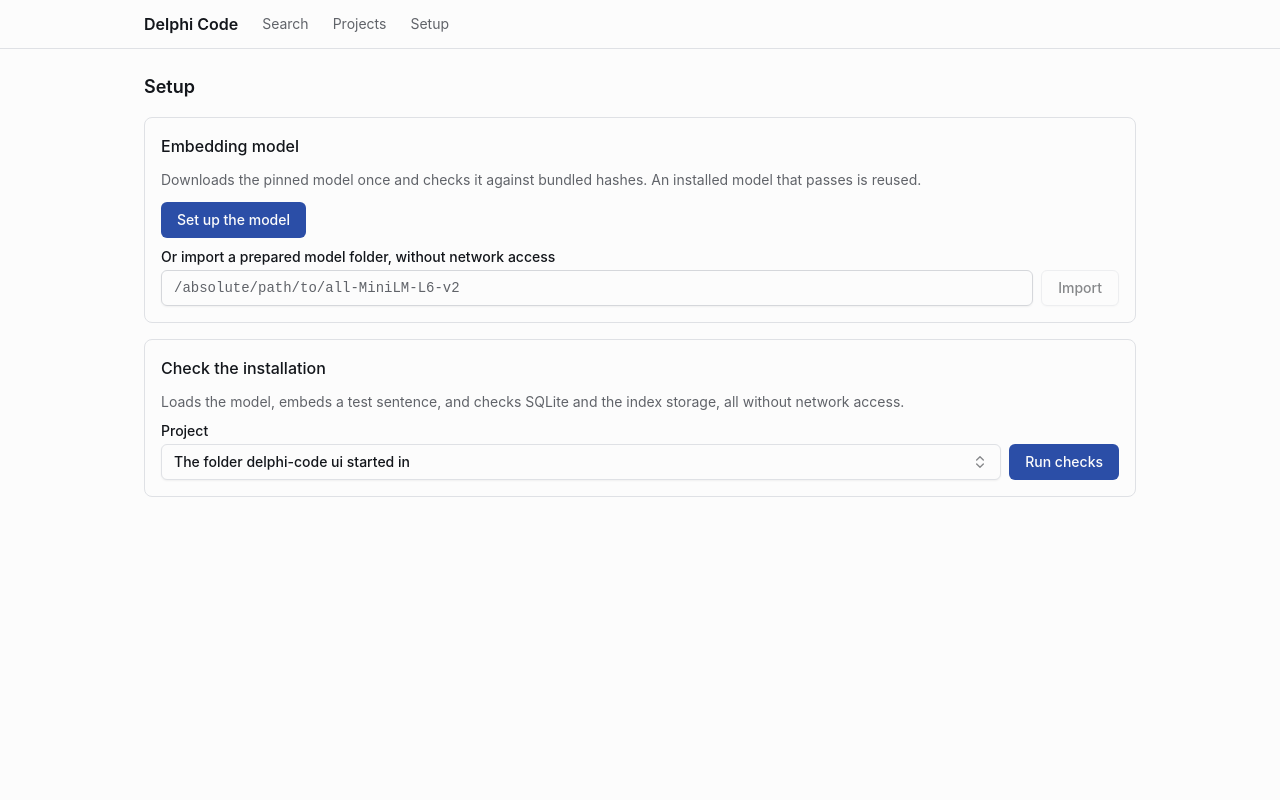
Test: the setup page › runs the installation checks in the folder the server started in unless a project is picked
The image size is (1280, 800).
Click the button "Run checks". click: (1064, 462)
box: left=1009, top=444, right=1119, bottom=480
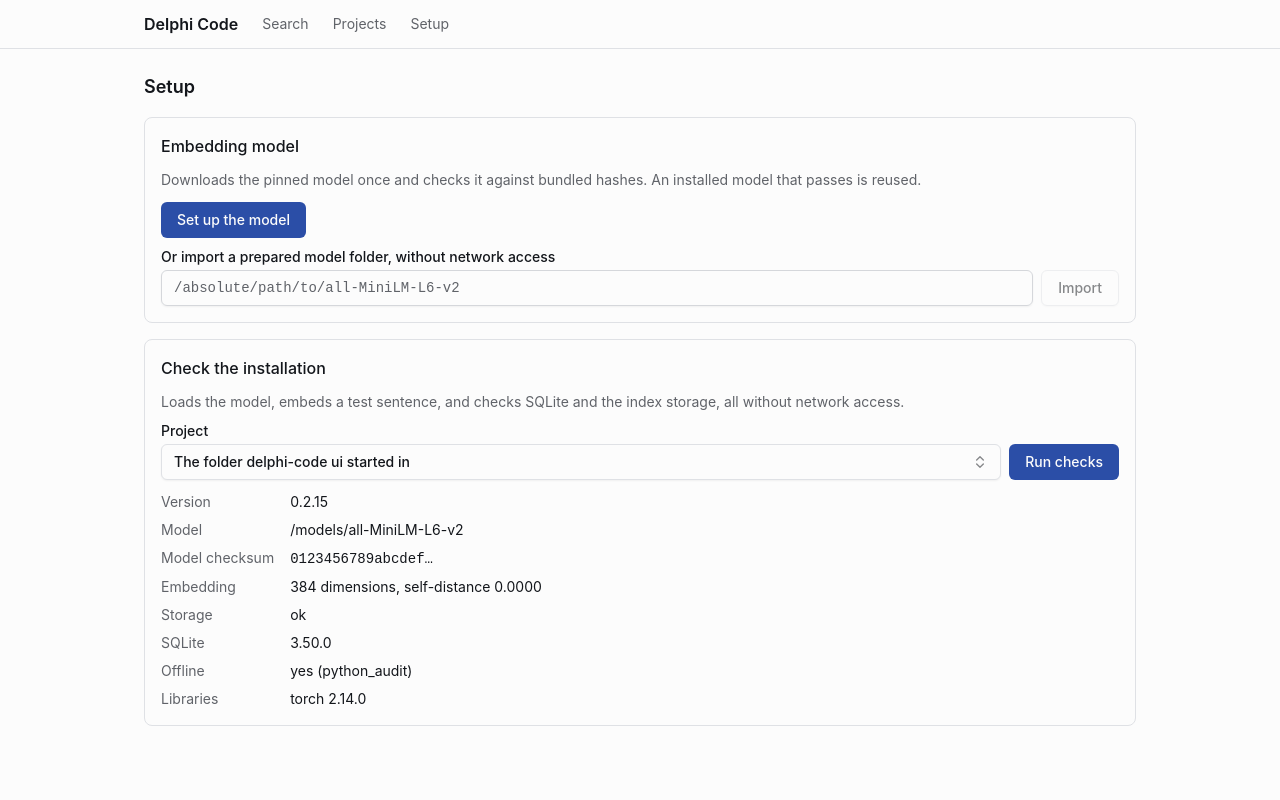
Expected: the text "384 dimensions, self-distance 0.0000" is shown, left=290, top=578, right=542, bottom=595
Expected: the text "yes (python_audit)" is shown, left=290, top=662, right=412, bottom=679
